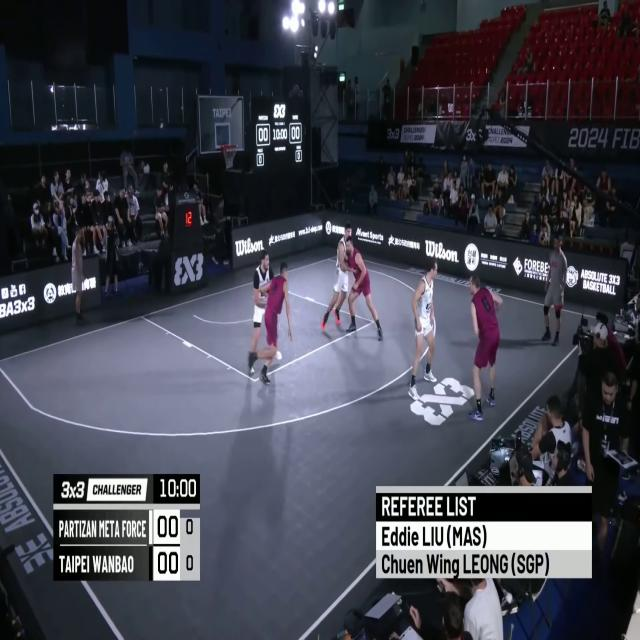hoop: (222, 142, 239, 168)
player: (465, 268, 505, 422), (248, 260, 292, 386), (245, 250, 282, 377), (342, 237, 380, 340), (411, 260, 438, 404), (321, 220, 350, 334)
